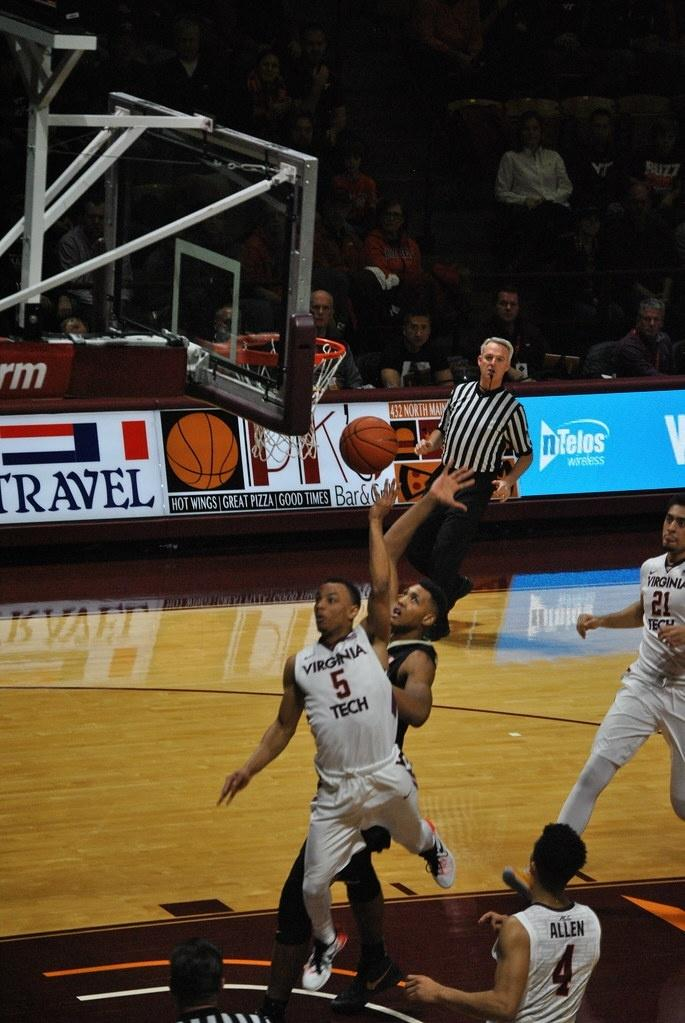basketball-player: (216, 459, 477, 1017), (276, 454, 504, 1008), (515, 482, 684, 956), (395, 808, 636, 1023)
